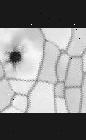good_void: (3, 43, 23, 67)
